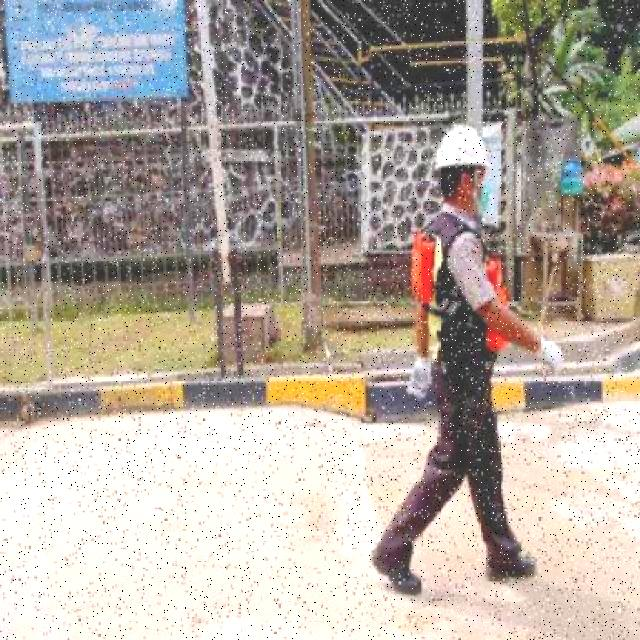Boots: (370, 536, 428, 598), (483, 548, 539, 590)
Gloves: (529, 331, 566, 384), (406, 354, 431, 403)
Helmet: (433, 123, 495, 172)
Mask: (407, 230, 518, 356)
